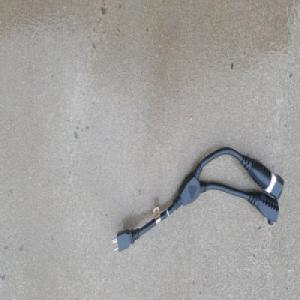Wire: (110, 146, 285, 255)
